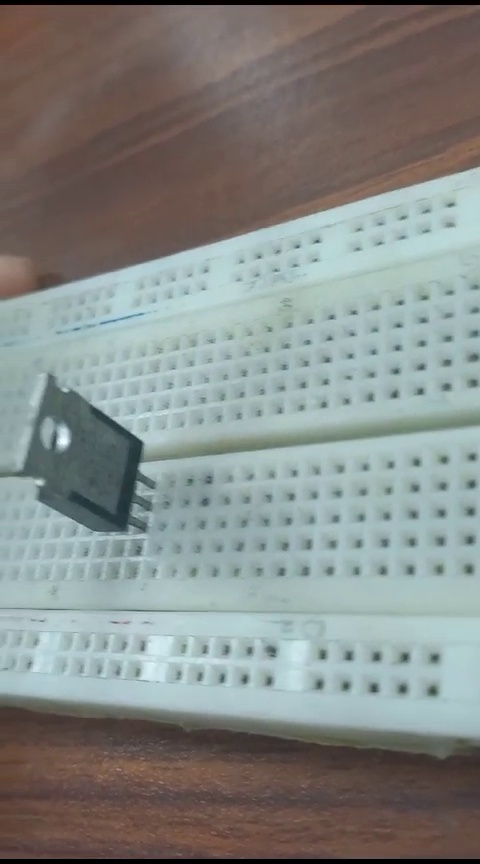voltage regulator: (20, 360, 169, 549)
